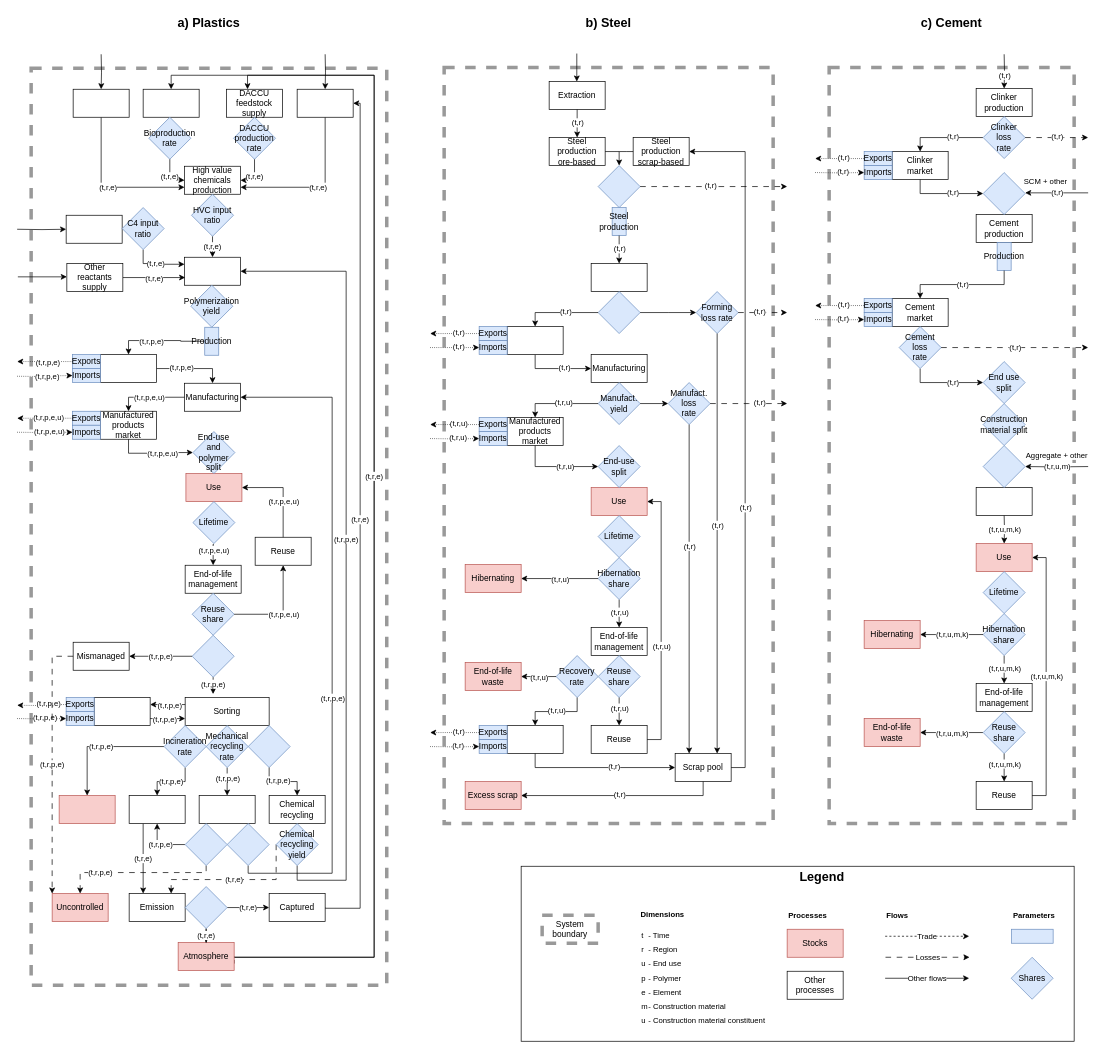
The diagram is 1106 pixels wide and 1054 high, and some of its shapes have lost their labels. The box of each missing label's shape, as (x1, y1, x2, y2) in pixels:
Absolute: (1011, 929, 1053, 943)
Bio feedstock supply: (142, 89, 199, 117)
C4 production: (65, 215, 122, 243)
CCU feedstock supply: (296, 89, 353, 117)
Cement ratio: (982, 445, 1025, 488)
Chemical recycling rate: (247, 725, 290, 768)
Clinker ratio: (982, 172, 1025, 215)
Collection rate: (191, 635, 234, 677)
Construction: (975, 487, 1032, 516)
Emission capture rate: (184, 886, 227, 929)
Forming: (590, 263, 647, 292)
Forming yield: (597, 291, 640, 334)
Fossil feedstock supply: (72, 89, 129, 117)
Incineration: (128, 795, 185, 824)
Landfill: (58, 795, 115, 824)
Mech. rec. uncontrolled loss rate: (184, 823, 227, 866)
Mech. rec. yield: (226, 823, 269, 866)
Mechanical recycling: (198, 795, 255, 824)
Old scrap market: (506, 725, 563, 754)
Polymerization: (184, 257, 241, 285)
Primary market: (100, 354, 157, 383)
Steel market: (506, 326, 563, 355)
Steel production loss rate: (597, 165, 640, 208)
Waste market: (93, 697, 150, 726)
